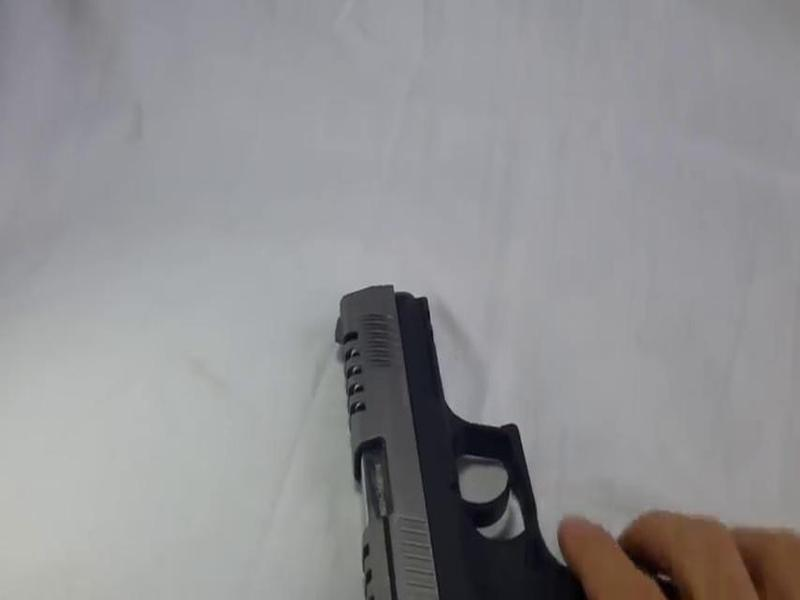Pistola: (315, 256, 571, 600)
